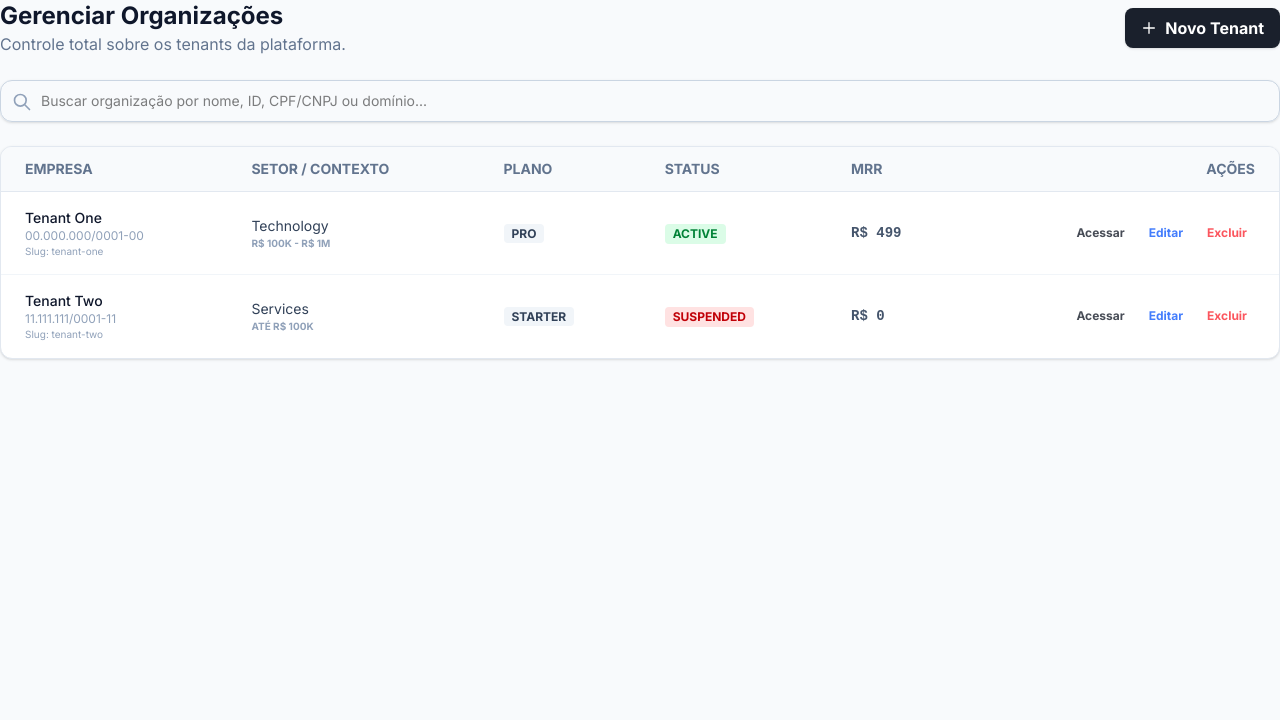
it: TenantManagerModule › deletes a tenant
expect the text "Tenant One" is shown: met, box [25,209,102,226]
Note: Click delete on first tenant
Click the button "Excluir" in the row of "Tenant One" at [1227, 233], box [1199,221,1255,245]
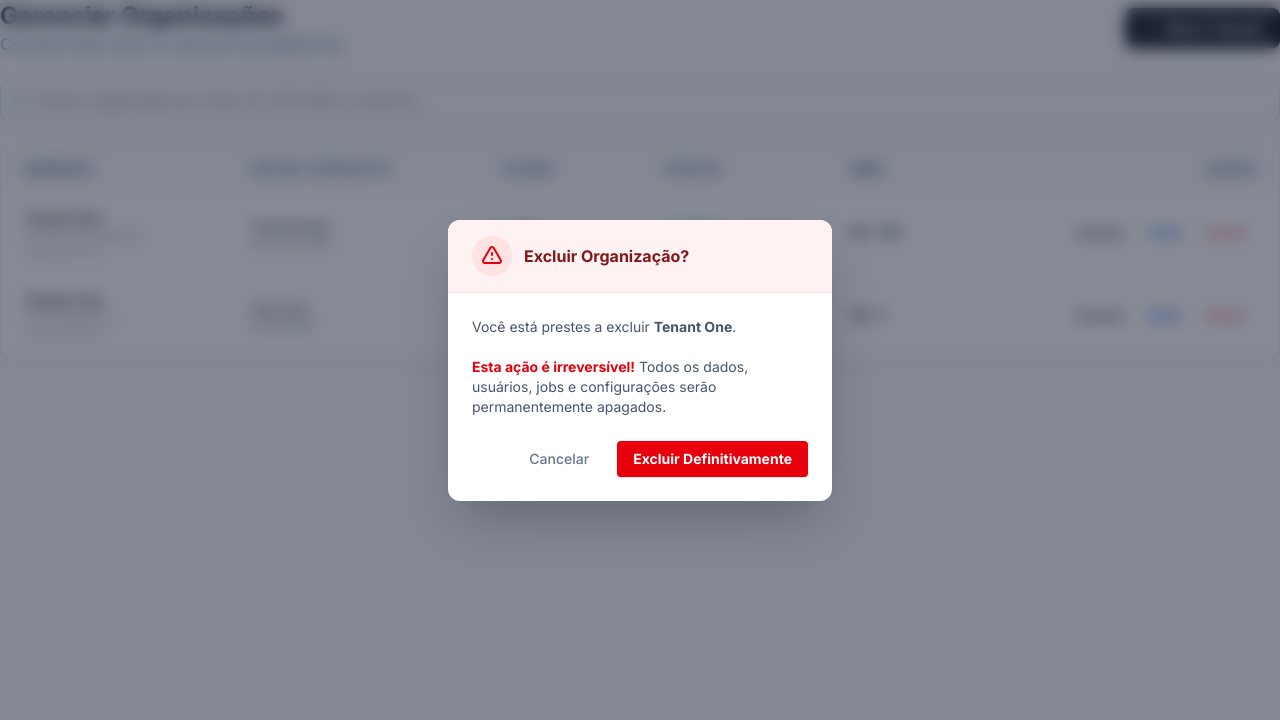
expect the heading "Excluir Organização?" is shown: met, box [524,244,689,268]
Note: Click confirm delete button
Click the button "Excluir Definitivamente" at [713, 458], box [617,440,808,476]
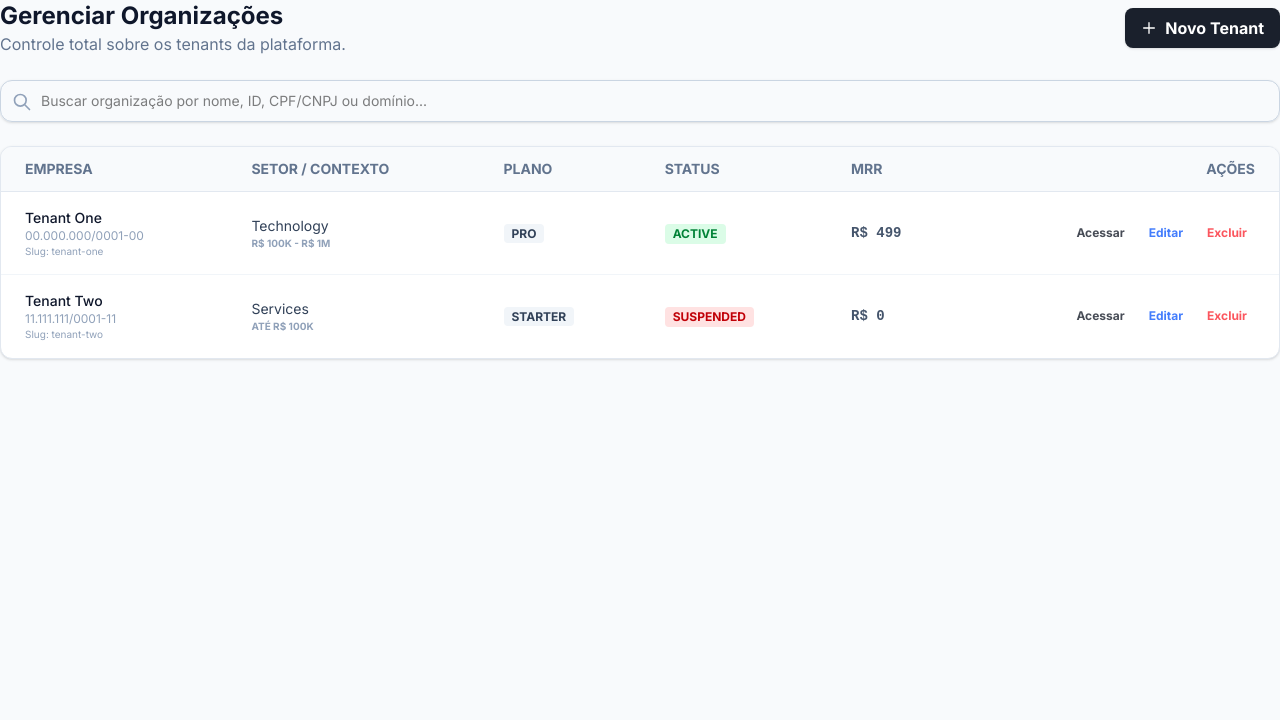
expect the heading "Excluir Organização?" is gone: met
